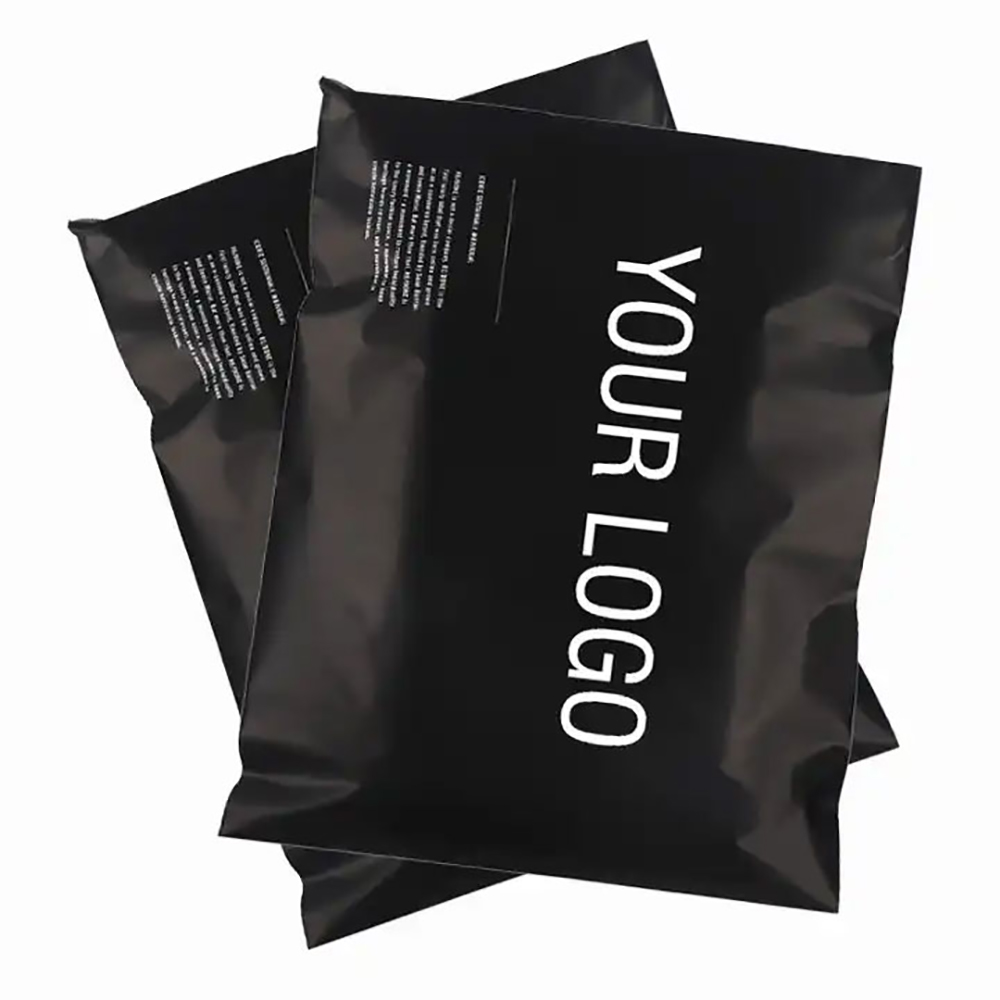Parcel: (83, 44, 919, 946)
